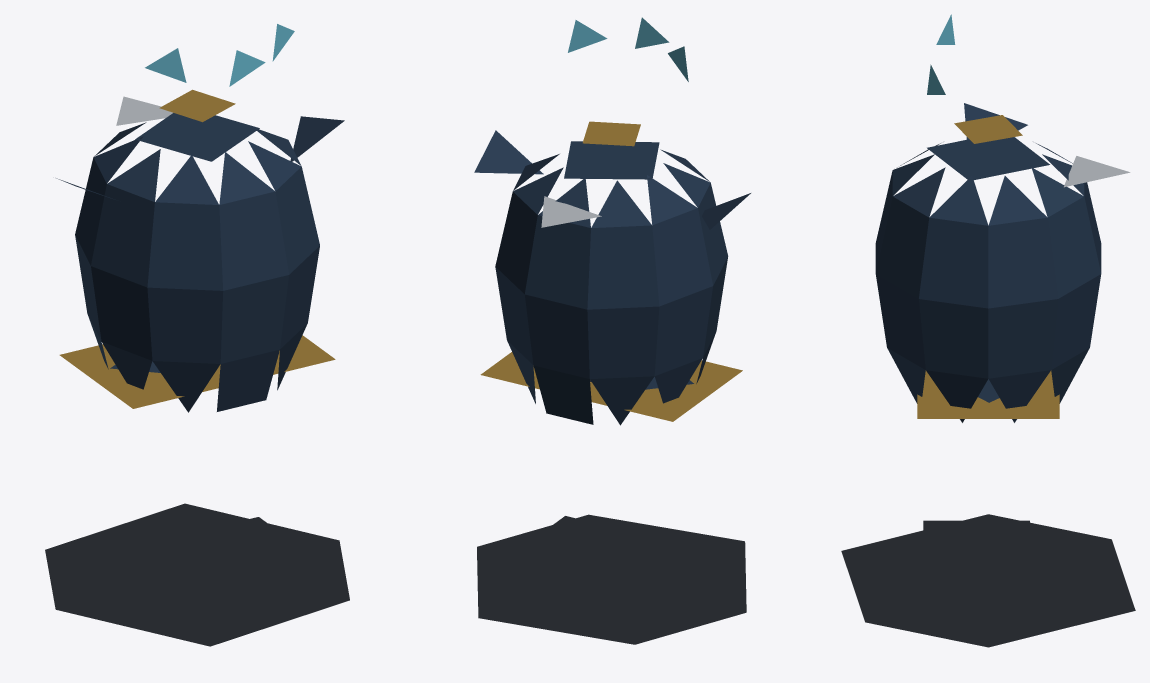
Rendered from diving-suit.lod.glb.
3 renders of one model, left to right at view 1: azimuth 30°, elevation 25°; view 2: azimuth 150°, elevation 25°; view 3: azimuth 270°, elevation 25°, orthographic. The views are drawn at different scales.
Parts seen in each view (by area): view 1: m; view 2: m; view 3: m.
Boxes of the visible parts, left/top/right/bottom form: m: left=45, top=24, right=349, bottom=646; m: left=474, top=17, right=750, bottom=644; m: left=841, top=14, right=1135, bottom=647.
Size of the model in its own units: 0.3539 by 0.5002 by 0.2377.
